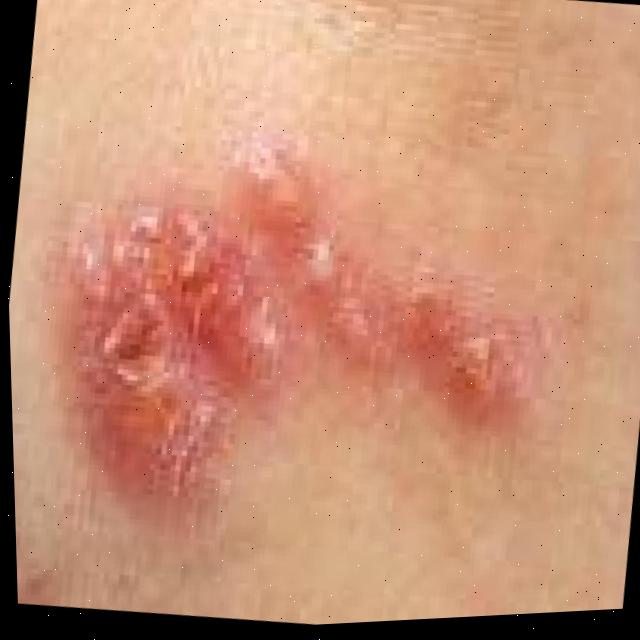Shingles: (46, 163, 536, 534)
